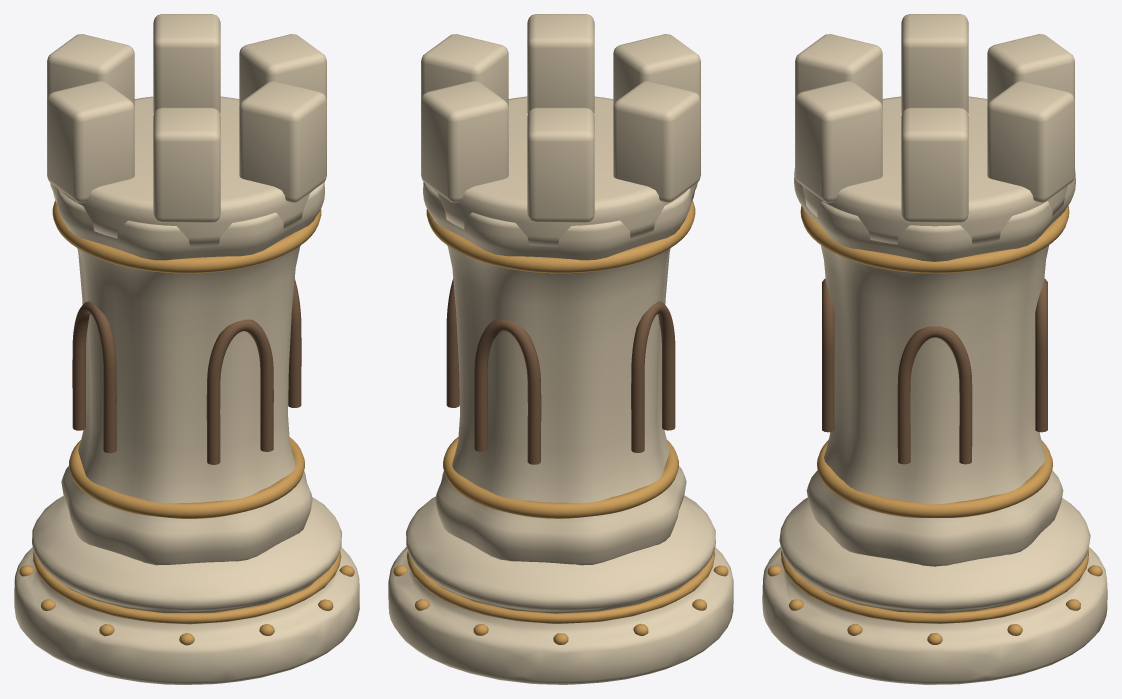
Rendered from rook.glb.
3 views of the same model, side by side, from view 1: azimuth 30°, elevation 25°; view 2: azimuth 150°, elevation 25°; view 3: azimuth 270°, elevation 25° (orthographic).
Visible parts, largest first — view 1: PIECE_Rook_Sculpture, PIECE_Rook_Base; view 2: PIECE_Rook_Sculpture, PIECE_Rook_Base; view 3: PIECE_Rook_Sculpture, PIECE_Rook_Base.
Boxes of the visible parts, x1=… form: PIECE_Rook_Sculpture: x1=47, y1=14, x2=326, y2=565; PIECE_Rook_Base: x1=14, y1=496, x2=359, y2=684; PIECE_Rook_Sculpture: x1=421, y1=14, x2=700, y2=565; PIECE_Rook_Base: x1=388, y1=495, x2=733, y2=684; PIECE_Rook_Sculpture: x1=794, y1=14, x2=1075, y2=566; PIECE_Rook_Base: x1=762, y1=497, x2=1107, y2=684.
Size of the model in its own units: 0.719 by 1.25 by 0.719.
